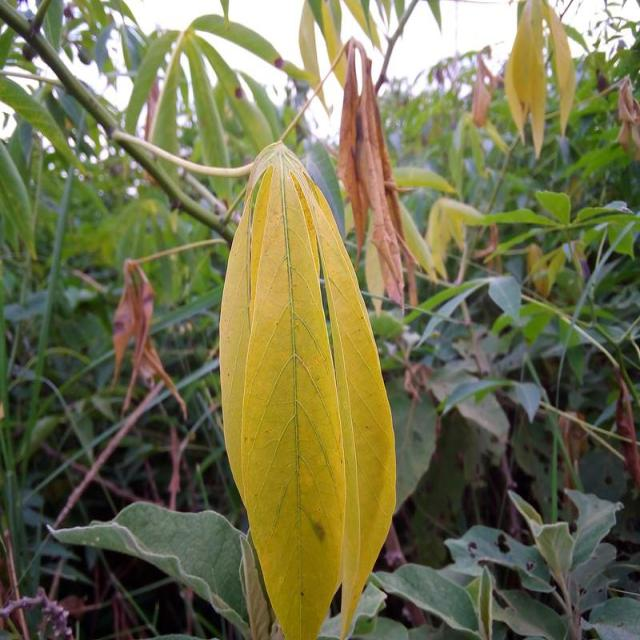cassava leaf: (217, 139, 397, 638)
